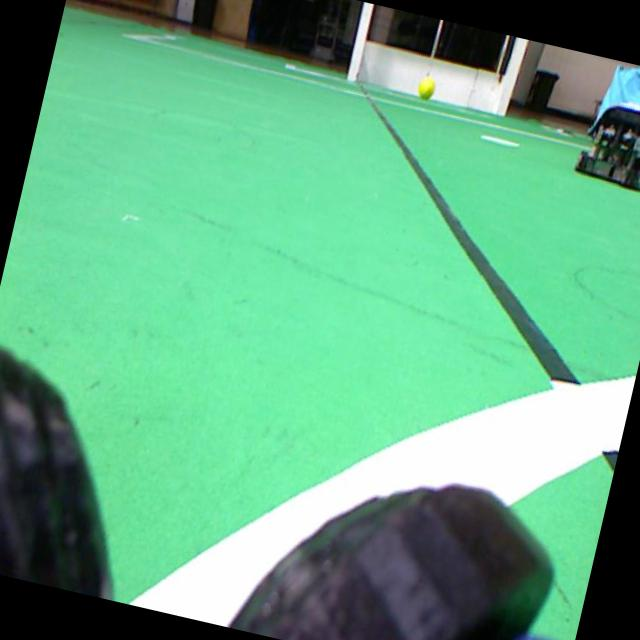ball: (417, 76, 434, 98)
goal: (496, 37, 526, 114), (346, 1, 372, 81)
